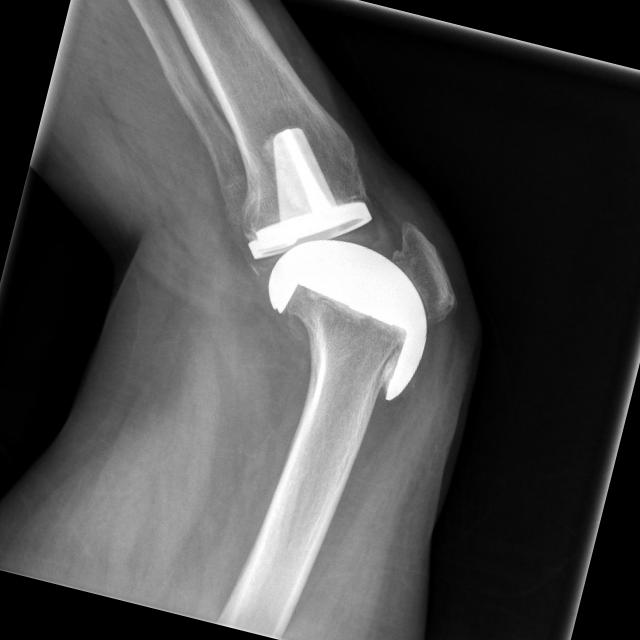Knee: (198, 110, 487, 368)
